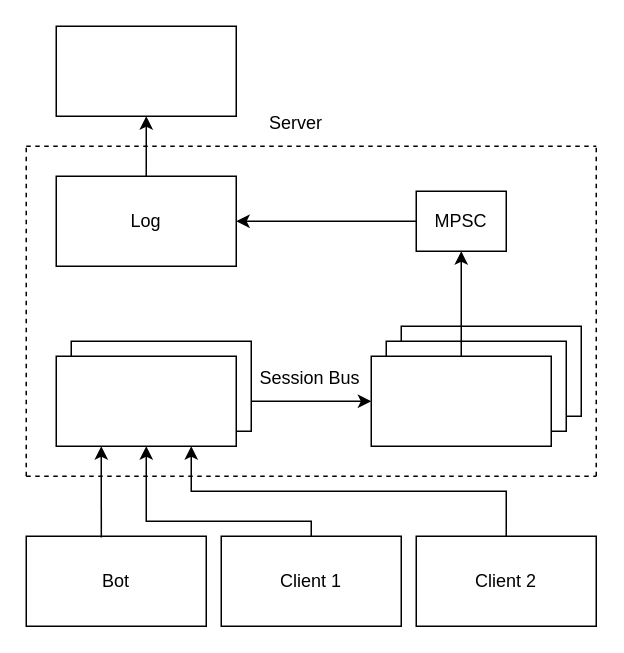
This 624x653 diagram has some shape labels left out. The shapes that lost their labels are listed below. From the top down, each one's centre as x and y in pixels, then its label:
[145,70]: Stats
[145,400]: IO & Session Manager
[460,400]: Multi Session Thread
